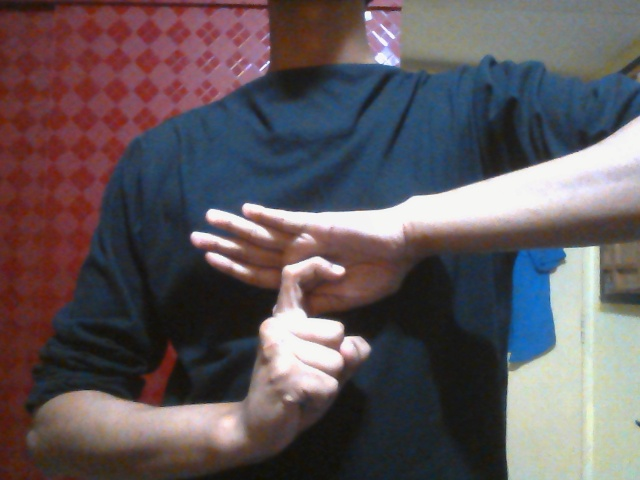R: (186, 196, 418, 447)
